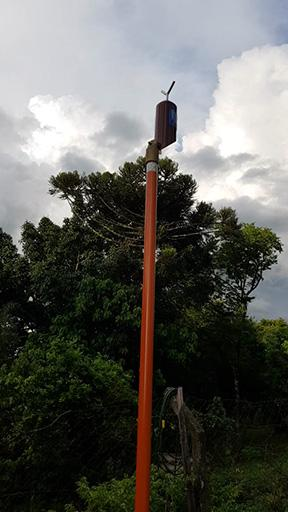Detector_Tensao_Contato: (152, 79, 179, 151)
Vara_Manobra: (134, 149, 159, 512)
